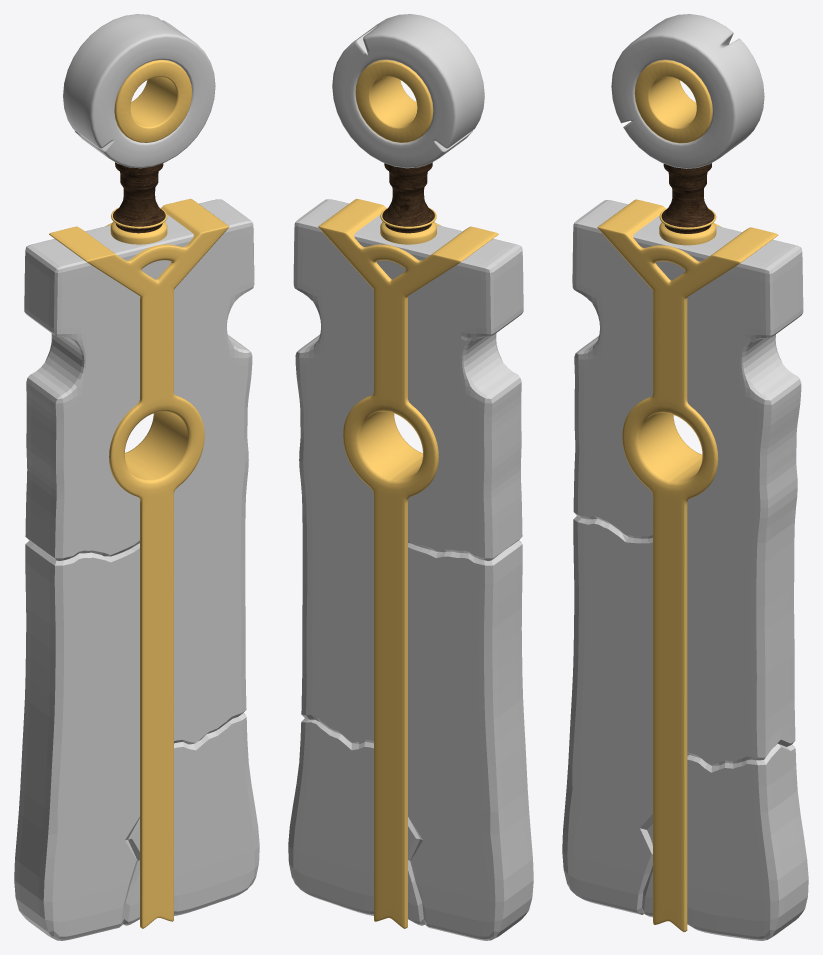
The model's file is knife.glb.
3 renders of one model, left to right at view 1: azimuth 30°, elevation 25°; view 2: azimuth 150°, elevation 25°; view 3: azimuth 330°, elevation 25°, orthographic.
Visible parts, largest first — view 1: rock, golden, handle; view 2: rock, golden, handle; view 3: rock, golden, handle.
Part boxes in pixels (x1=…): rock: x1=14, y1=14, x2=259, y2=940; golden: x1=49, y1=60, x2=229, y2=928; handle: x1=113, y1=162, x2=165, y2=233; rock: x1=288, y1=14, x2=533, y2=940; golden: x1=318, y1=60, x2=498, y2=928; handle: x1=382, y1=162, x2=434, y2=233; rock: x1=562, y1=14, x2=808, y2=940; golden: x1=597, y1=60, x2=778, y2=931; handle: x1=661, y1=163, x2=714, y2=233.
Size of the model in its own units: 1.05 by 4.12 by 0.3225.
Materials: 2 (2 with a texture image).
